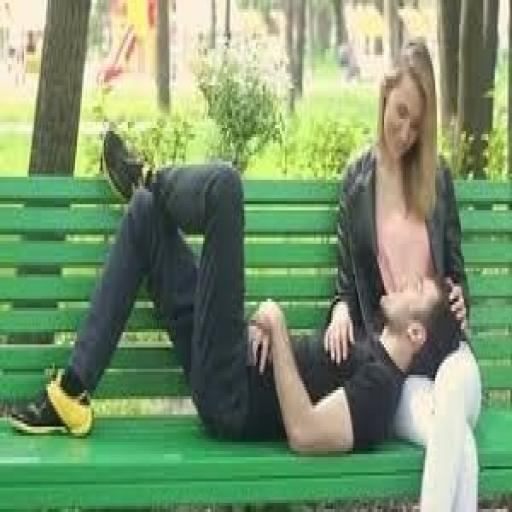sitting: (8, 33, 484, 506)
